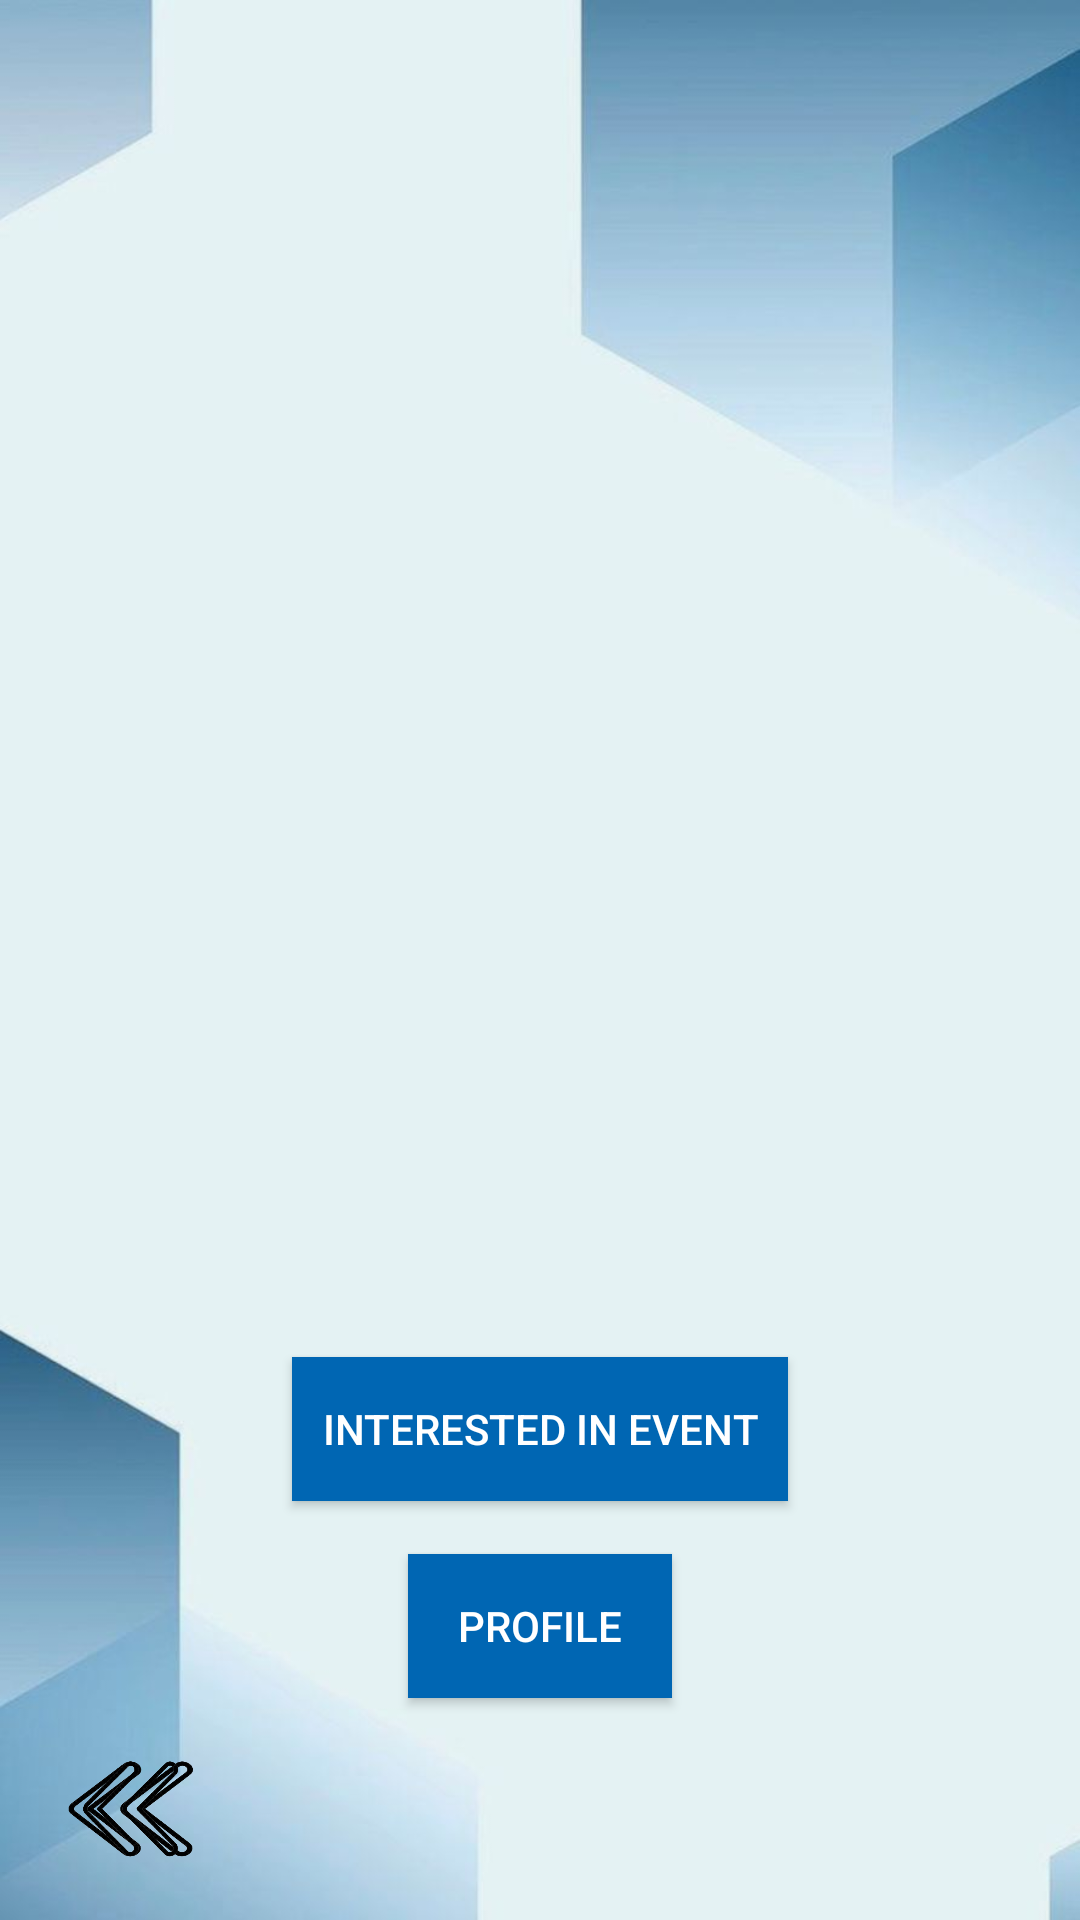

Point at icon controls on the screen. Image size 1080 × 1920, points as (x=x, y=y).
this is back button: (x=140, y=1809)
